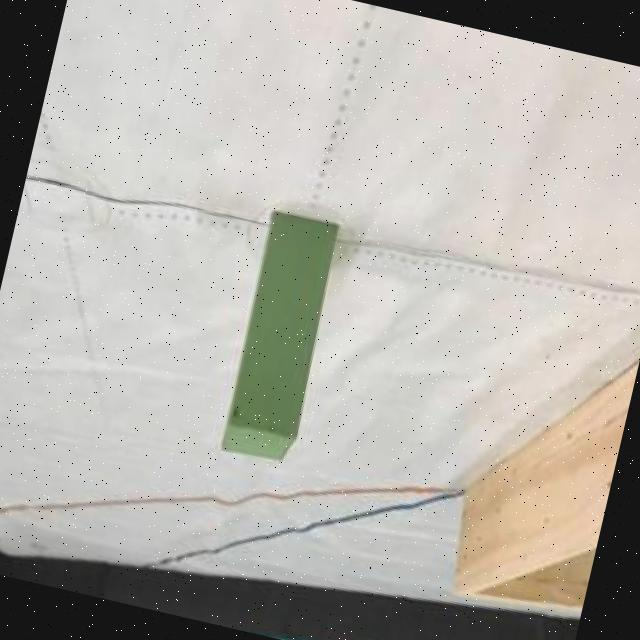greenbox: (214, 210, 345, 472)
